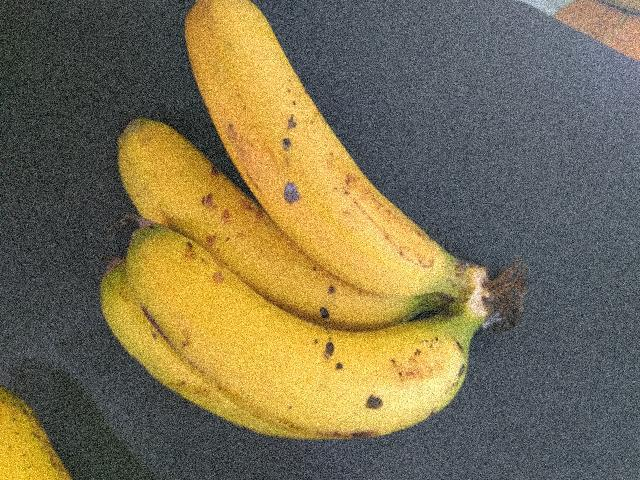ripe: (175, 3, 481, 304), (118, 236, 492, 418), (98, 120, 340, 311)
